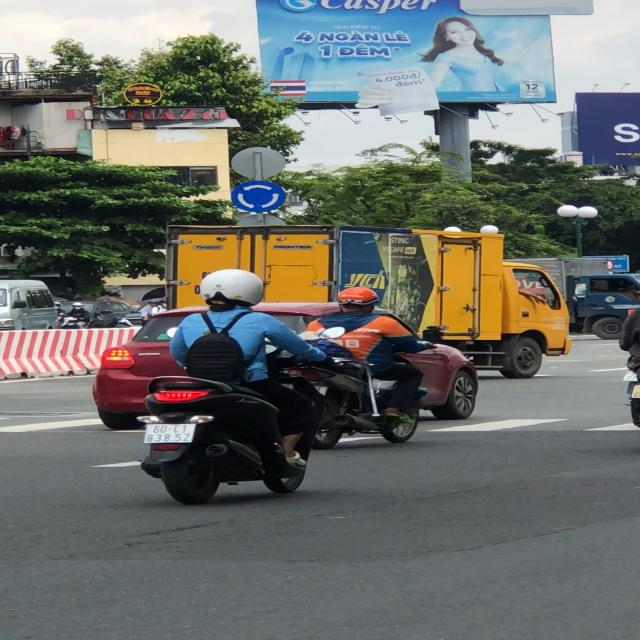Bien bao noi giao nhau chay theo vong xuyen: (226, 176, 290, 214)
